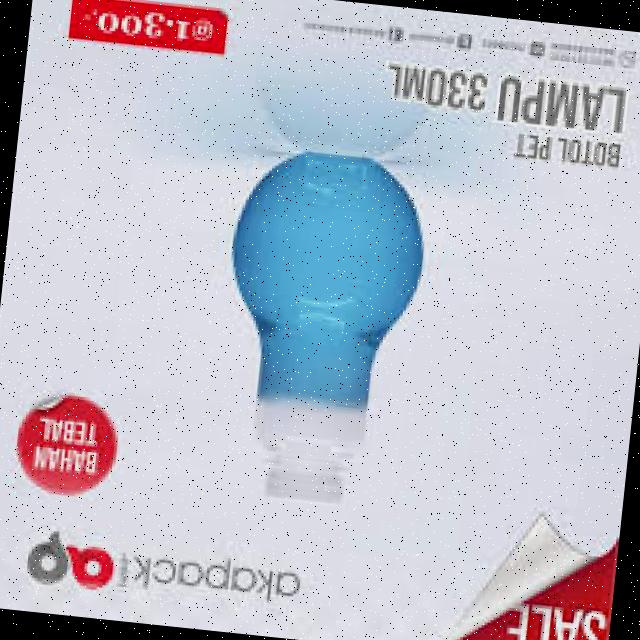bottle: (169, 140, 450, 521)
cap: (259, 464, 346, 508)
